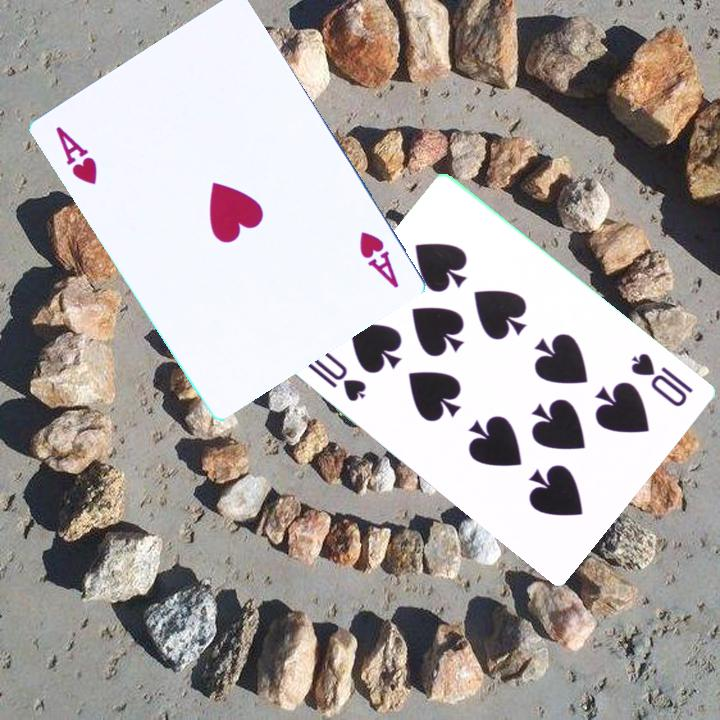10s: (627, 349, 697, 410), (304, 345, 370, 405)
Ah: (51, 122, 100, 188), (355, 227, 402, 291)
